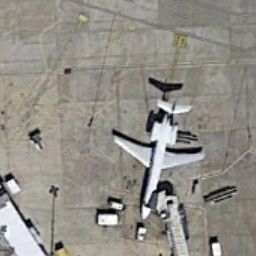Airplane: (100, 85, 212, 222)
